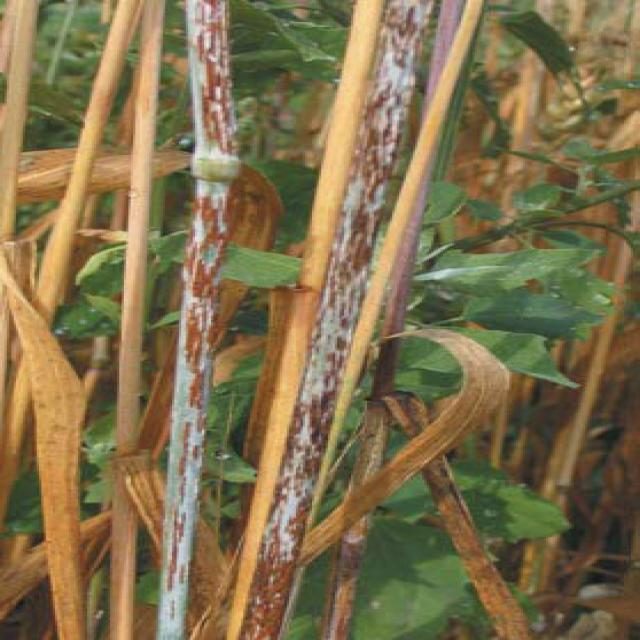Stem_Rust: (176, 0, 439, 640)
